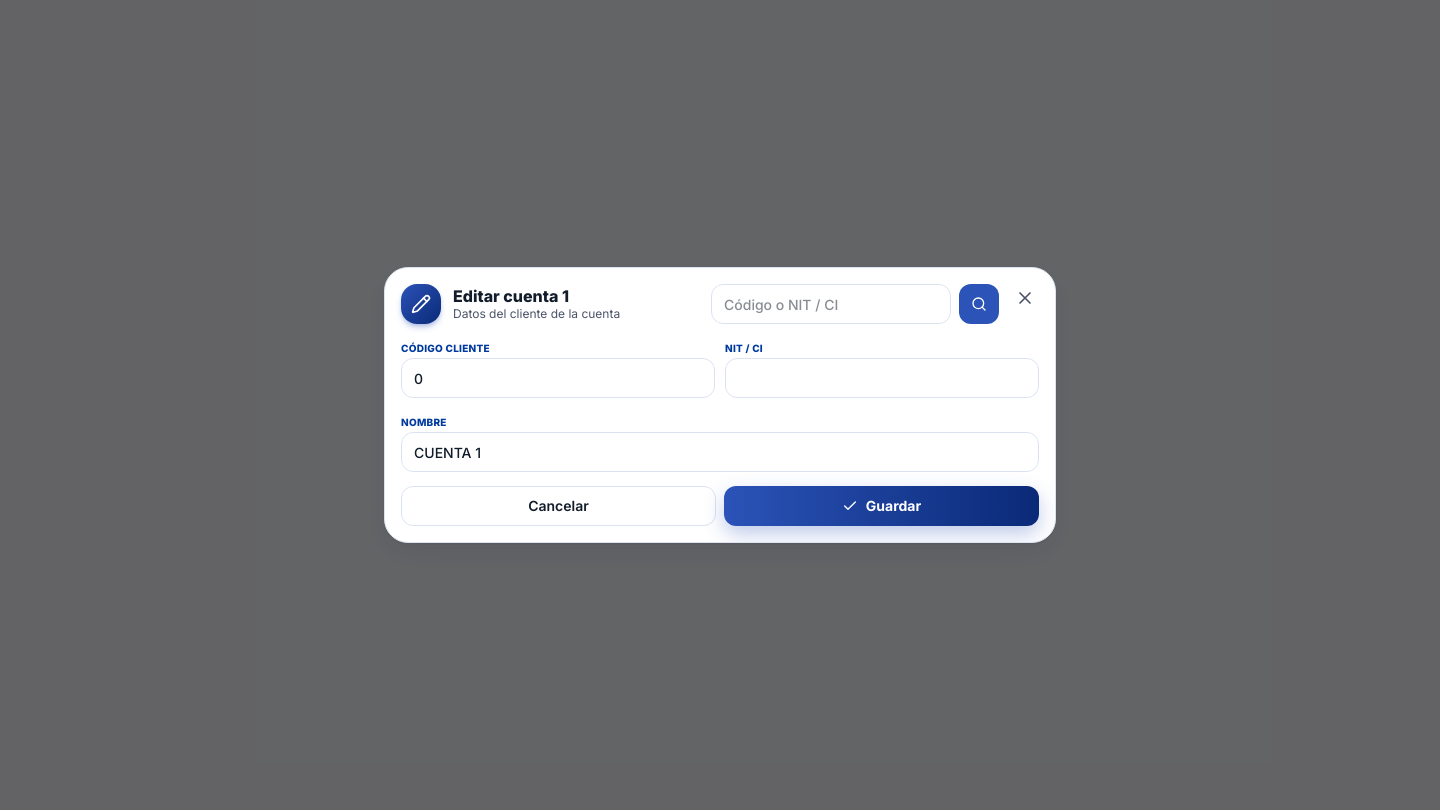
it: EditarCuentaModal: buscar cliente › un número de más de 9 dígitos se busca directo como NIT o CI
Type "1234567890" into the field named "Buscar cliente".
click(831, 304); type("1234567890")  # box [711,284,951,324]
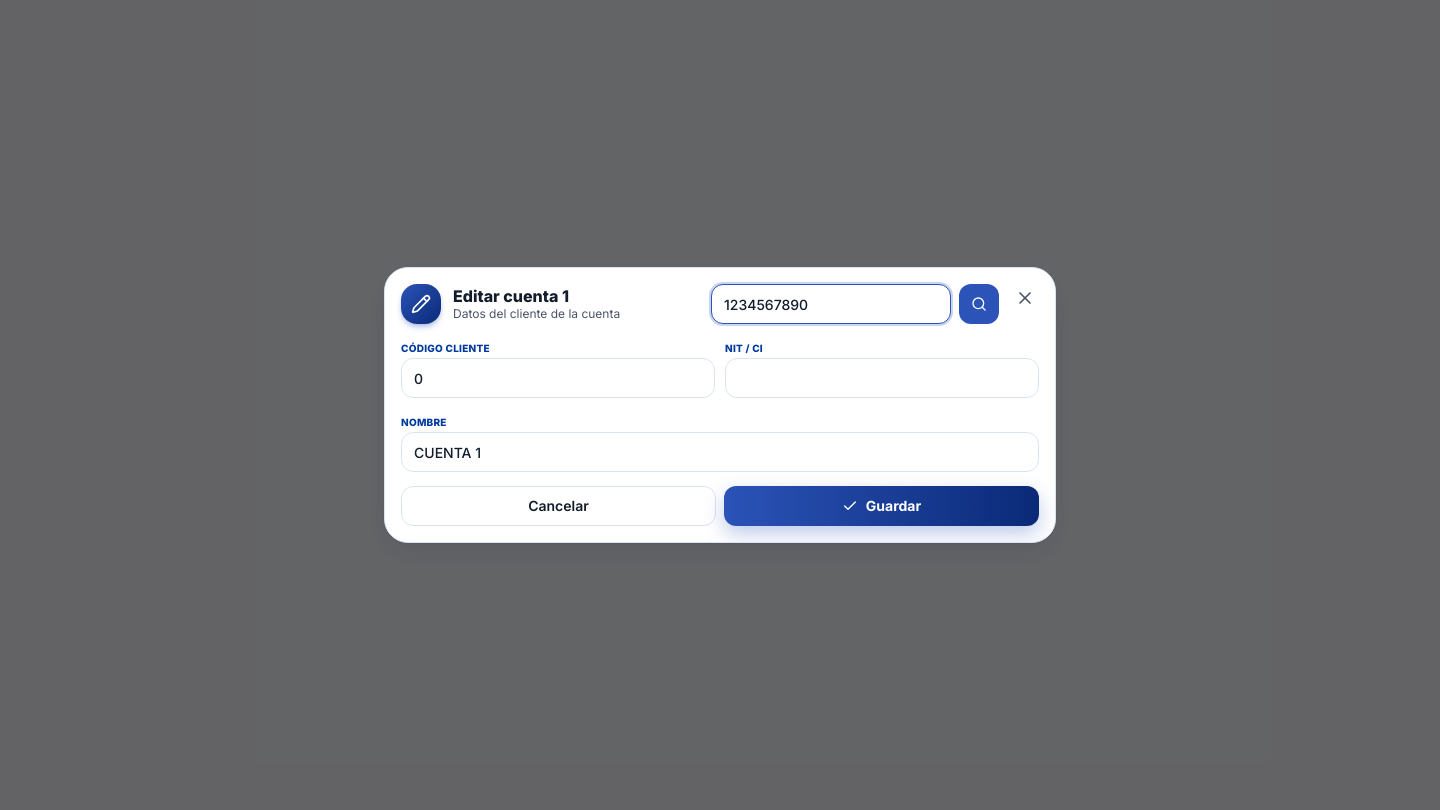
Click the button named "Buscar".
click(979, 304)  # box [959,284,999,324]
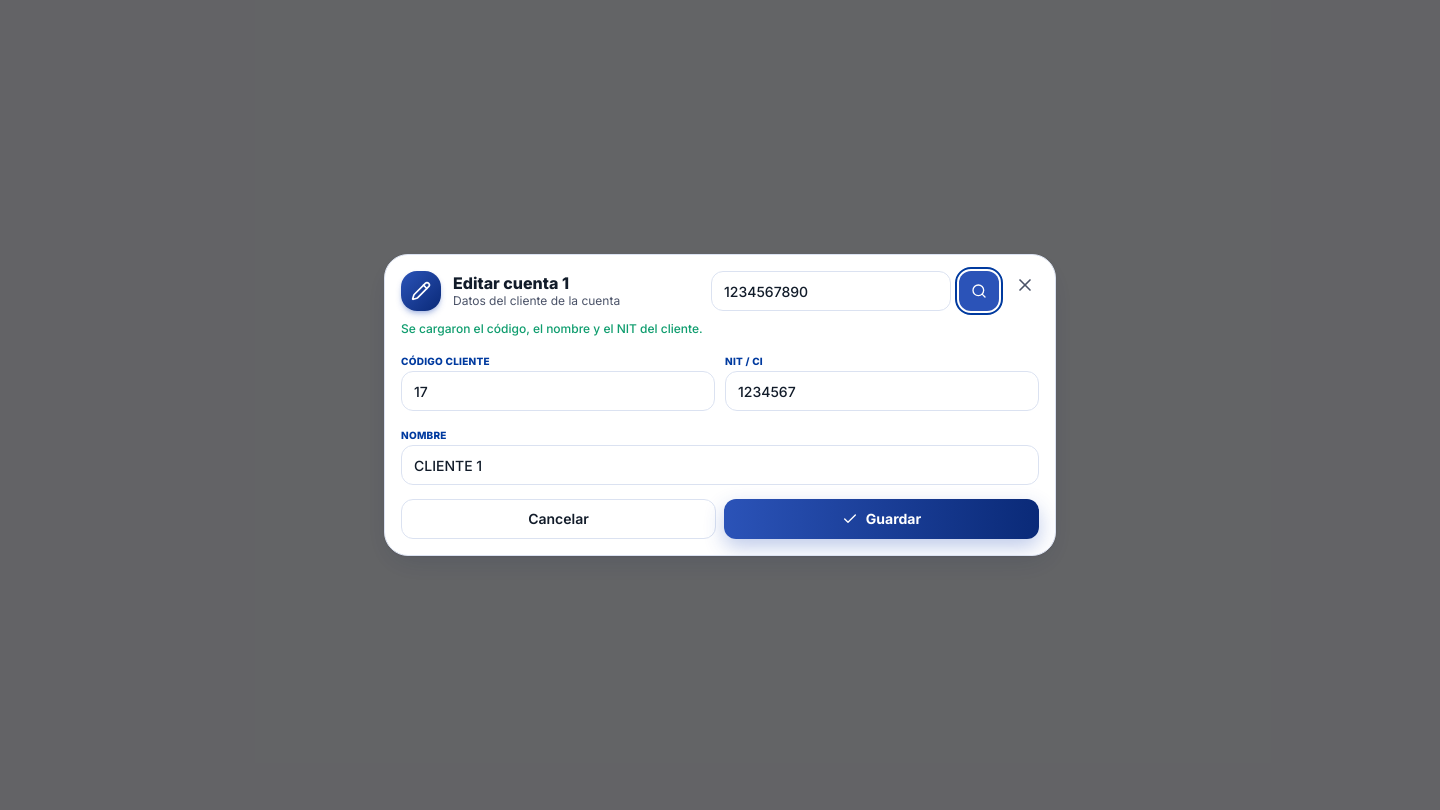
Expected: the text "Se cargaron el código, el nombre y el NIT del cliente." is shown, [401,321,703,336]
